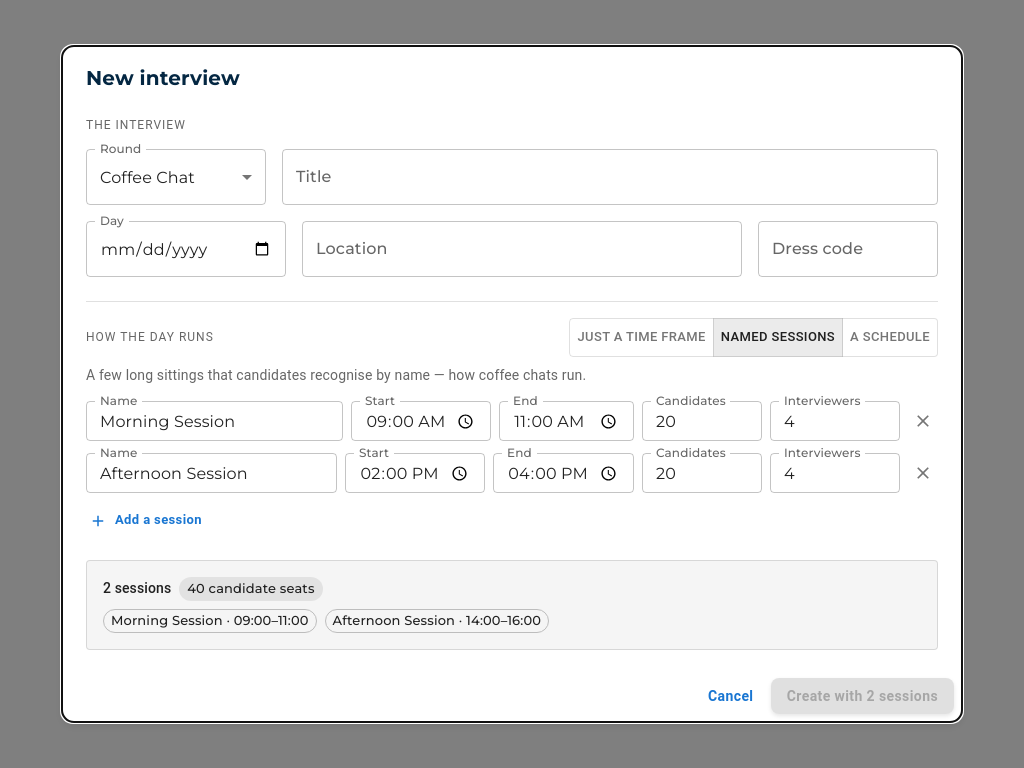
InterviewCreateDialog › adds and removes named sessions
Click the button "Add a session".
click(146, 521)  # box [86, 505, 207, 536]
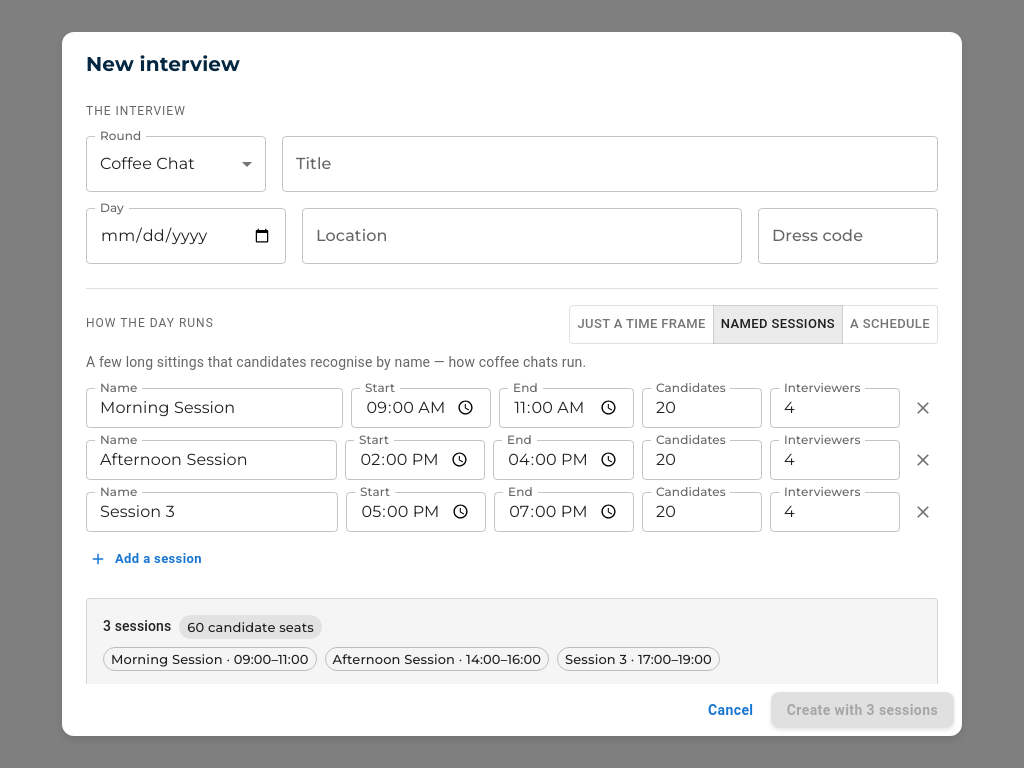
Now the heading "3 sessions" is shown, box [103, 616, 171, 638]
Click the button named "remove session 3".
click(923, 512)  # box [908, 497, 938, 527]
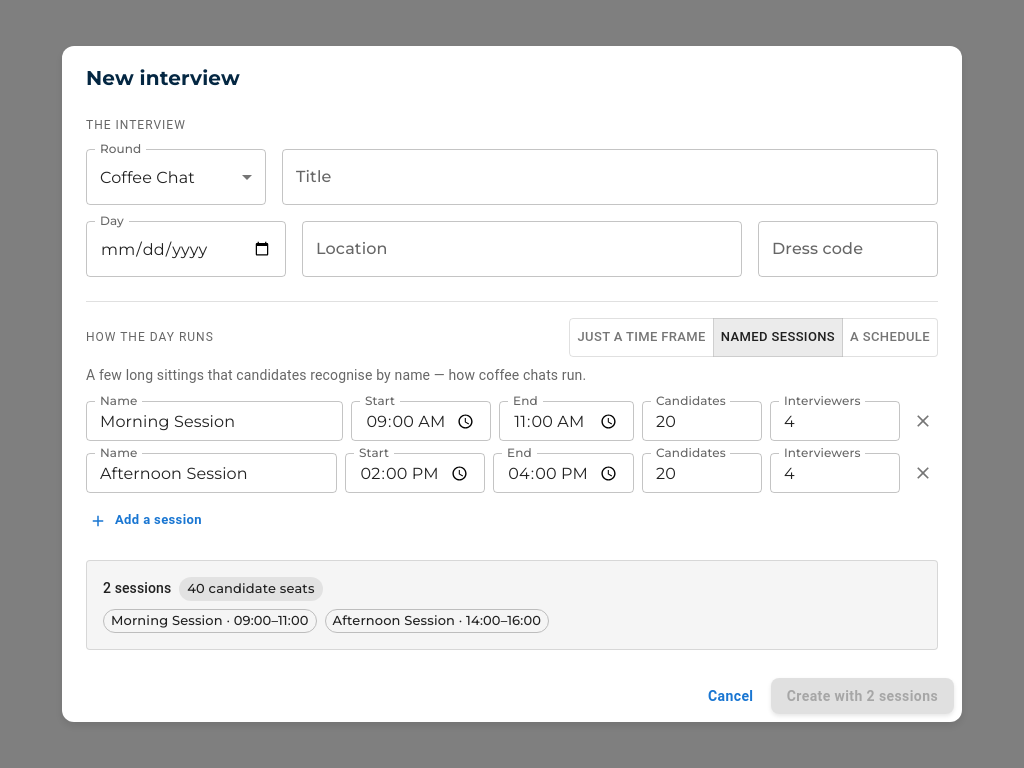
Now the heading "2 sessions" is shown, box [103, 578, 171, 600]
